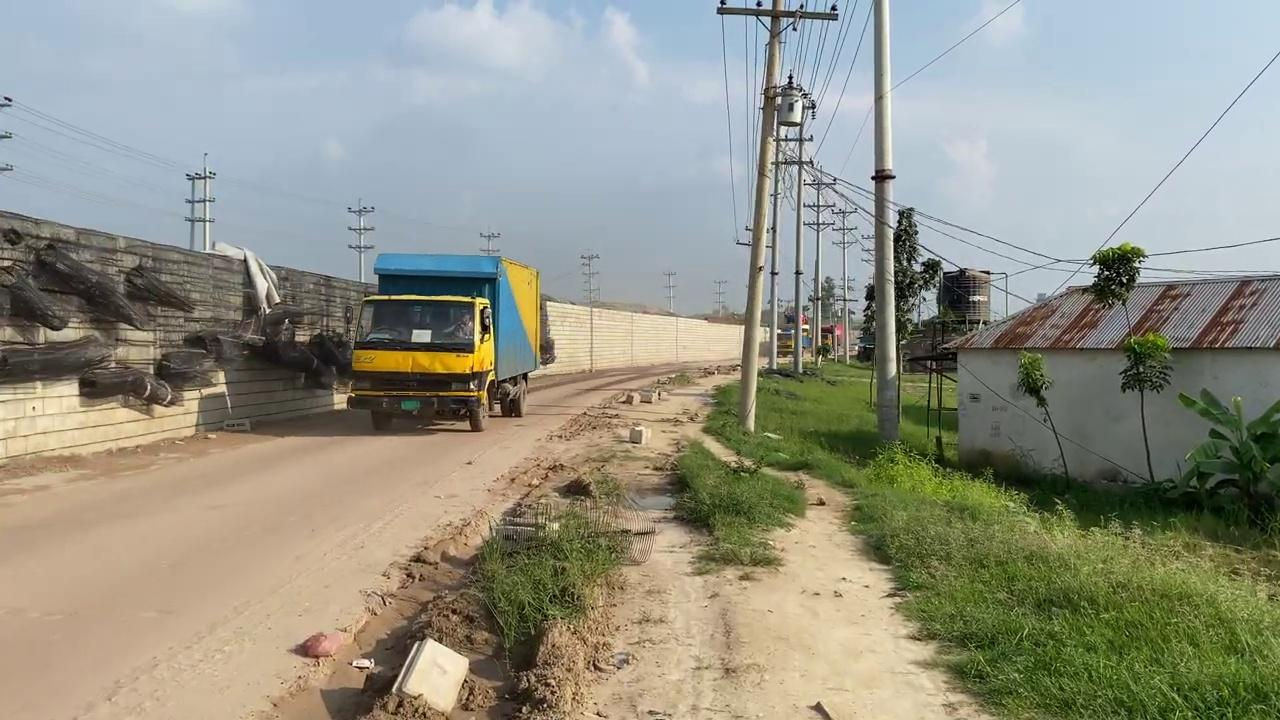Muddy road: (1, 355, 743, 718)
Obstacle: (385, 635, 470, 715)
Pole: (716, 0, 838, 433), (737, 2, 783, 434), (870, 0, 900, 443)
Traffic-sign: (1117, 330, 1174, 484)
Tree: (345, 250, 542, 432), (775, 323, 840, 357)
Upstairs: (0, 208, 378, 461)
